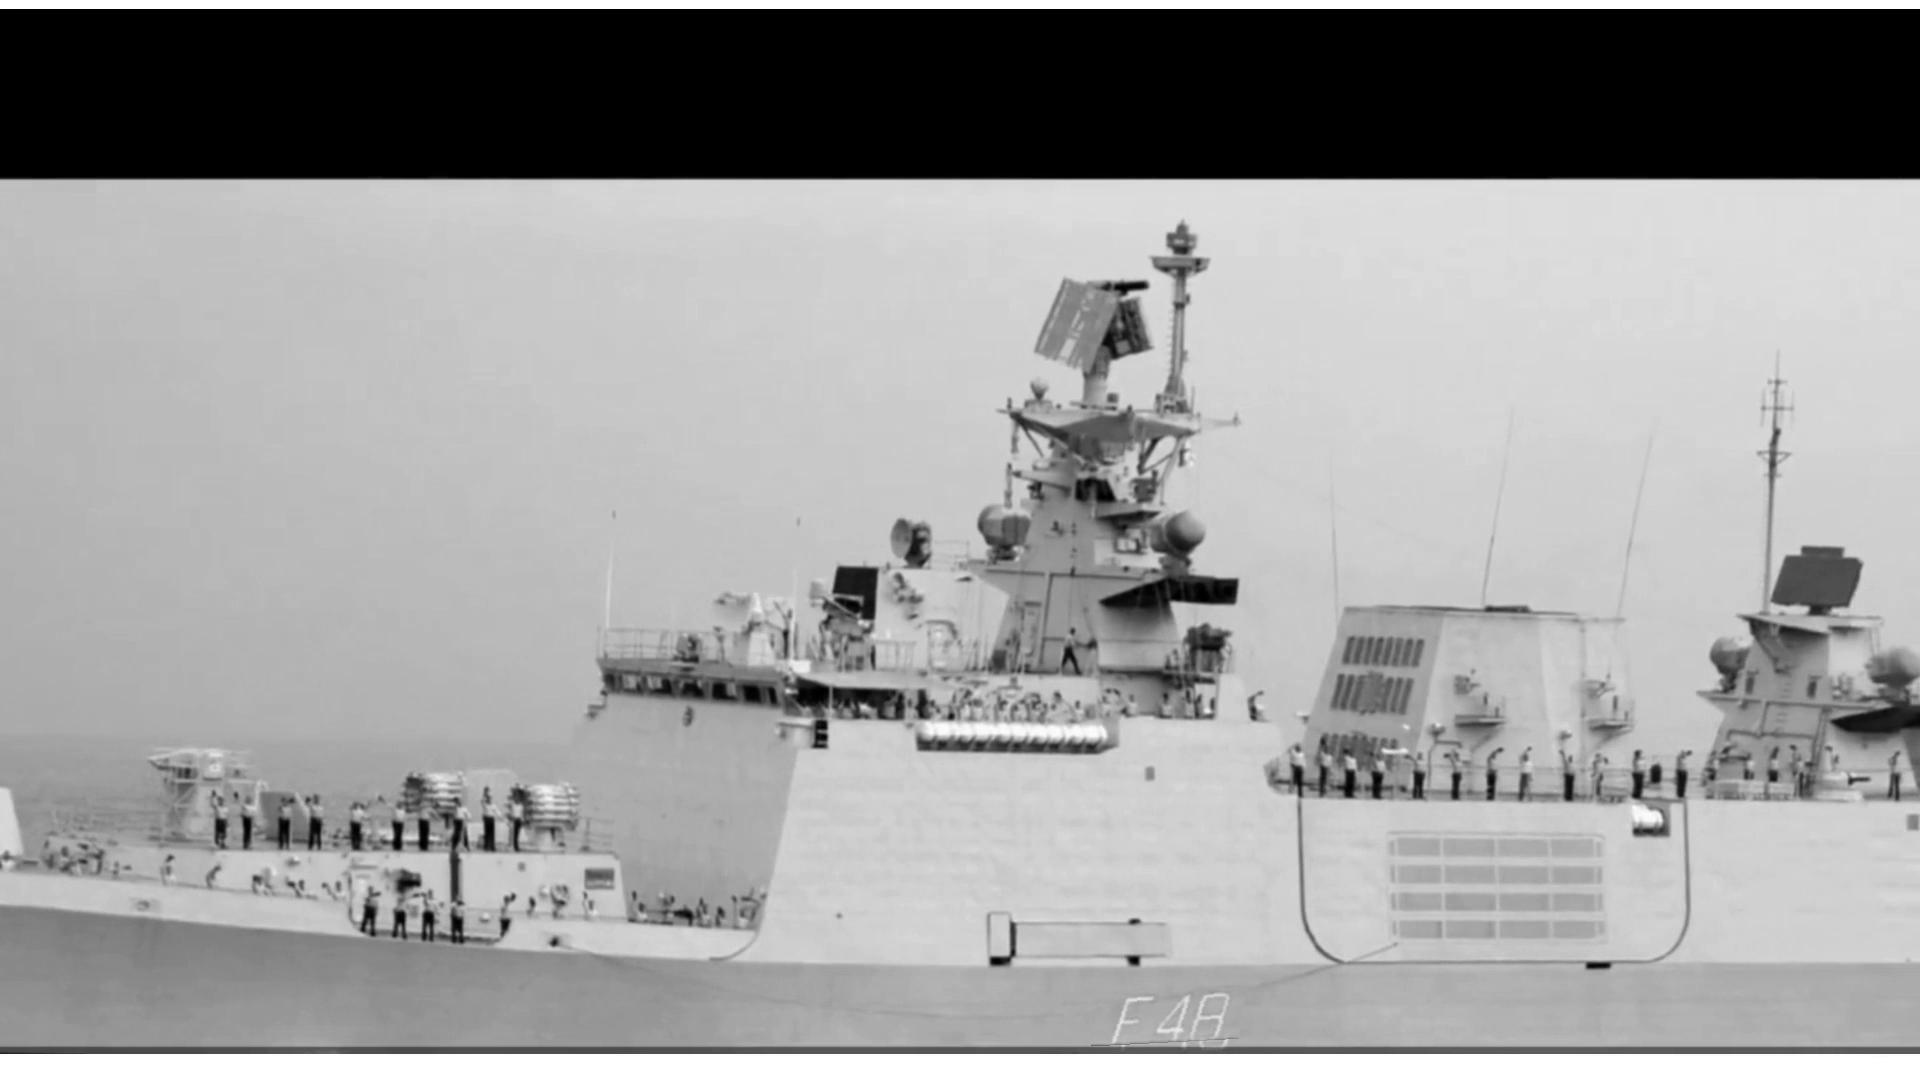OCR: (1091, 986, 1249, 1048)
